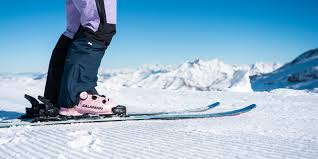skis: (1, 101, 258, 132)
